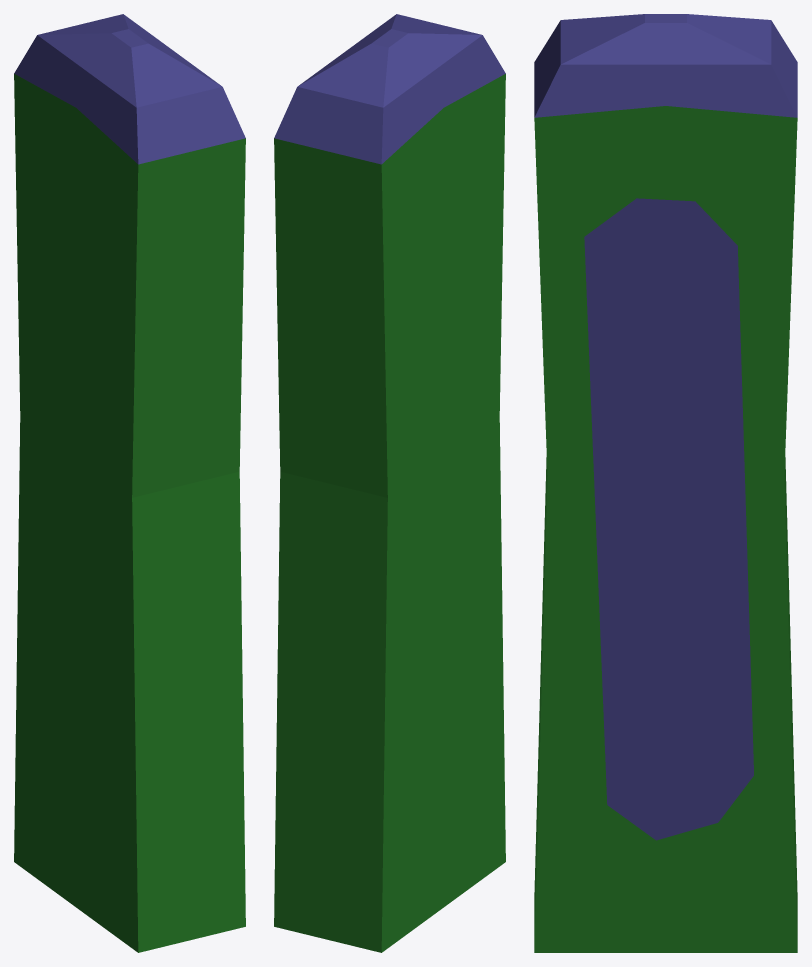
Rendered from BoteGel.fbx.
3 renders of one model, left to right at view 1: azimuth 30°, elevation 25°; view 2: azimuth 150°, elevation 25°; view 3: azimuth 270°, elevation 25°, orthographic. The views are drawn at different scales.
Parts seen in each view (by area): view 1: Cube; view 2: Cube; view 3: Cube.
Part boxes in pixels (<box>): Cube: <box>14,14,245,952</box>; Cube: <box>274,14,505,952</box>; Cube: <box>534,14,797,952</box>.
Bounding box in the file's own units: 100 × 760 × 200.
